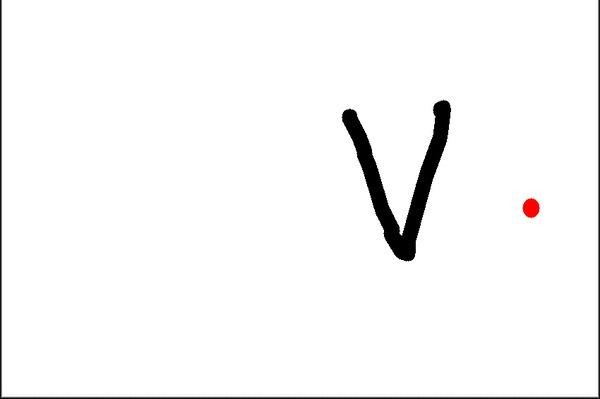V: (335, 93, 459, 264)
